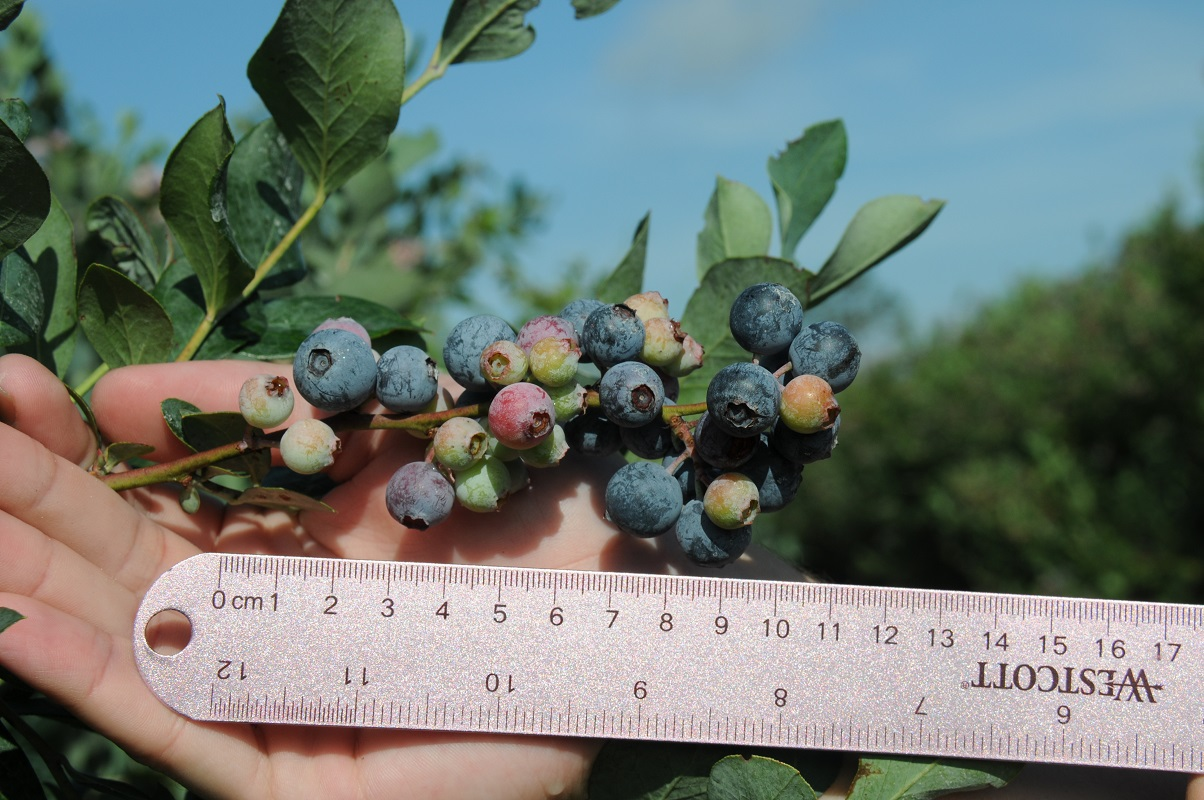Immature: (488, 382, 556, 449), (779, 375, 841, 435), (280, 418, 342, 475), (454, 454, 512, 514), (702, 472, 762, 528), (432, 417, 488, 473), (239, 374, 295, 429), (404, 384, 456, 440), (514, 315, 581, 357), (528, 336, 583, 387), (512, 423, 571, 469), (639, 317, 688, 366), (479, 340, 530, 387), (541, 380, 588, 427), (311, 316, 371, 351), (661, 334, 705, 378), (478, 416, 520, 462), (661, 449, 696, 504), (622, 290, 669, 323), (766, 344, 797, 386), (501, 457, 531, 494), (653, 368, 680, 404)
Mature: (706, 431, 804, 513), (293, 329, 378, 412), (442, 315, 518, 397), (606, 461, 684, 539), (705, 363, 781, 438), (789, 320, 863, 394), (675, 498, 753, 568), (729, 283, 804, 355), (609, 396, 686, 461), (386, 462, 455, 531), (599, 361, 666, 429), (376, 345, 438, 414), (760, 413, 841, 465), (583, 303, 647, 367), (694, 409, 760, 469), (556, 297, 608, 363), (562, 408, 623, 458)
